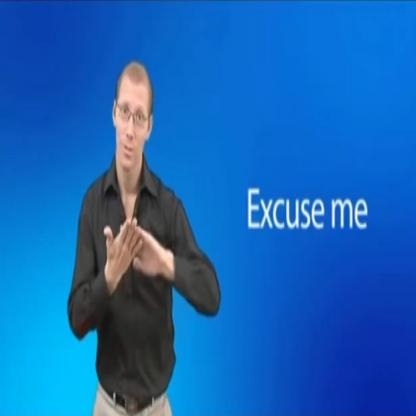ExcuseMe: (96, 208, 169, 289)
